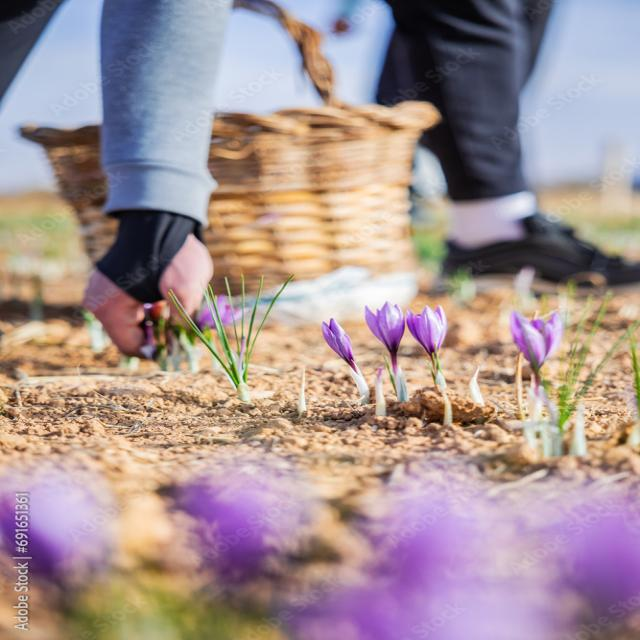saffron closed: (323, 319, 357, 370)
saffron open: (510, 311, 564, 380), (366, 301, 405, 374), (407, 305, 448, 360)
